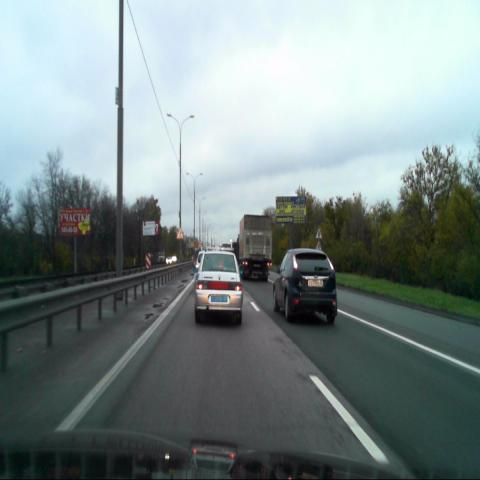1_22: (314, 242, 322, 253)
2_3_2: (315, 225, 323, 240)
